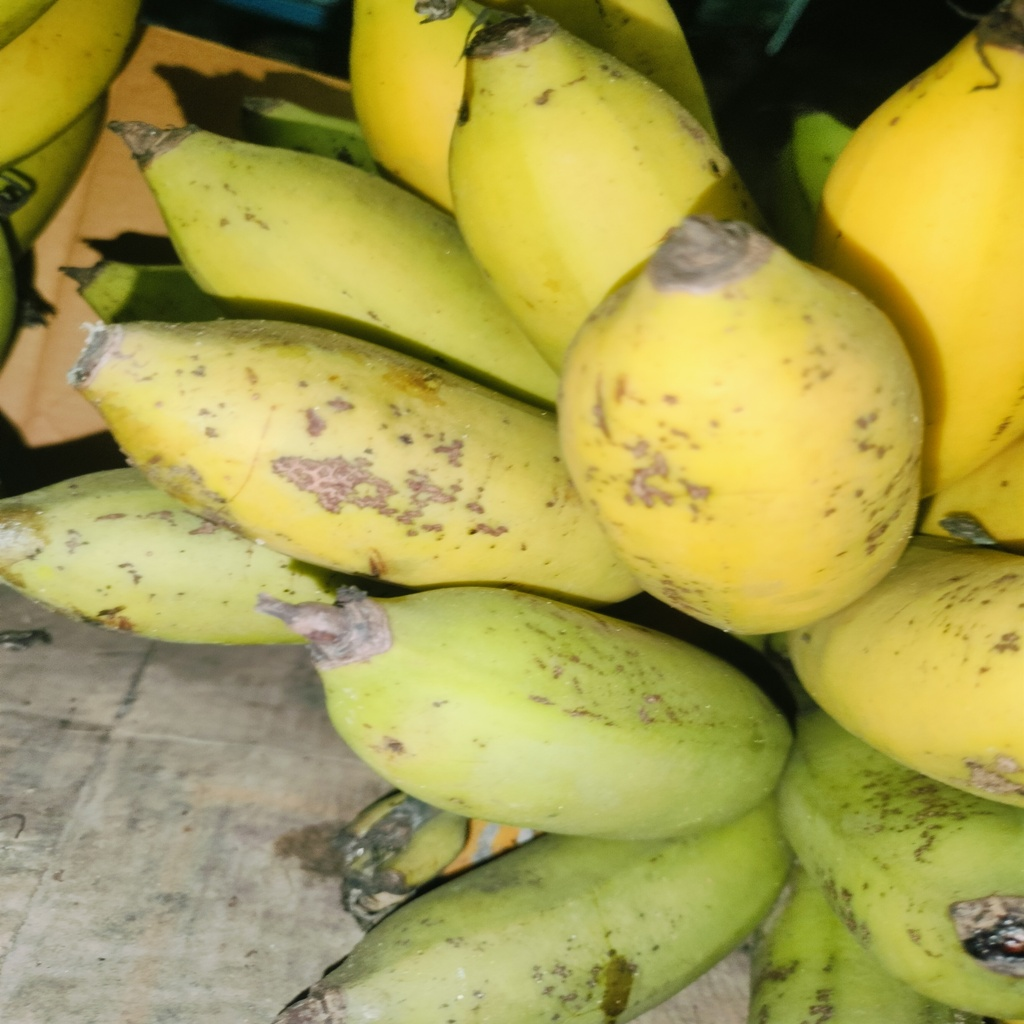unhealthy: (555, 218, 925, 672), (73, 317, 644, 602), (307, 584, 806, 828)
